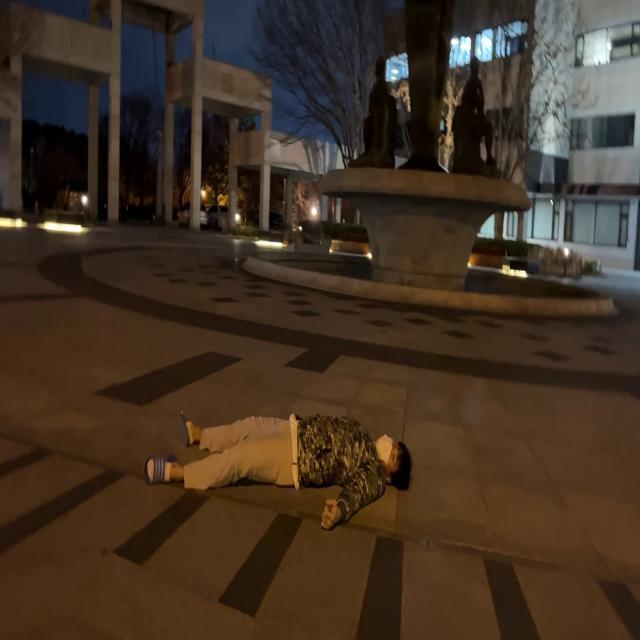Fall: (144, 415, 413, 530)
